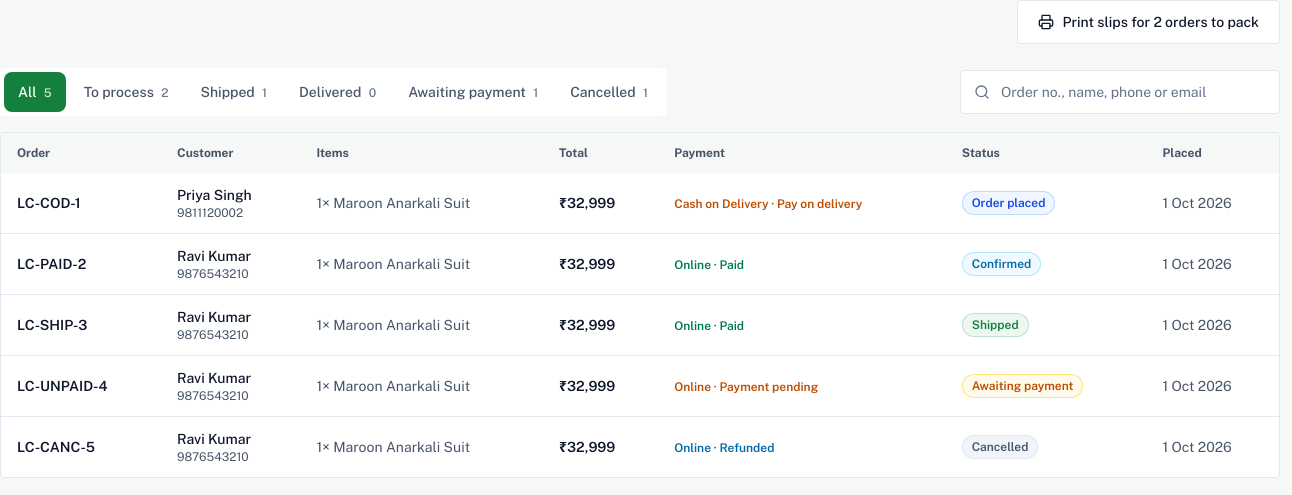
<OrdersAdmin /> › shows tab counts and filters by tab
Expected: the tab "All 5" is shown, top-left (4, 72), bottom-right (66, 112)
Expected: the tab "To process 2" is shown, top-left (70, 72), bottom-right (182, 112)
Click the tab "Shipped 1" at (234, 92), box top-left (186, 72), bottom-right (281, 112)
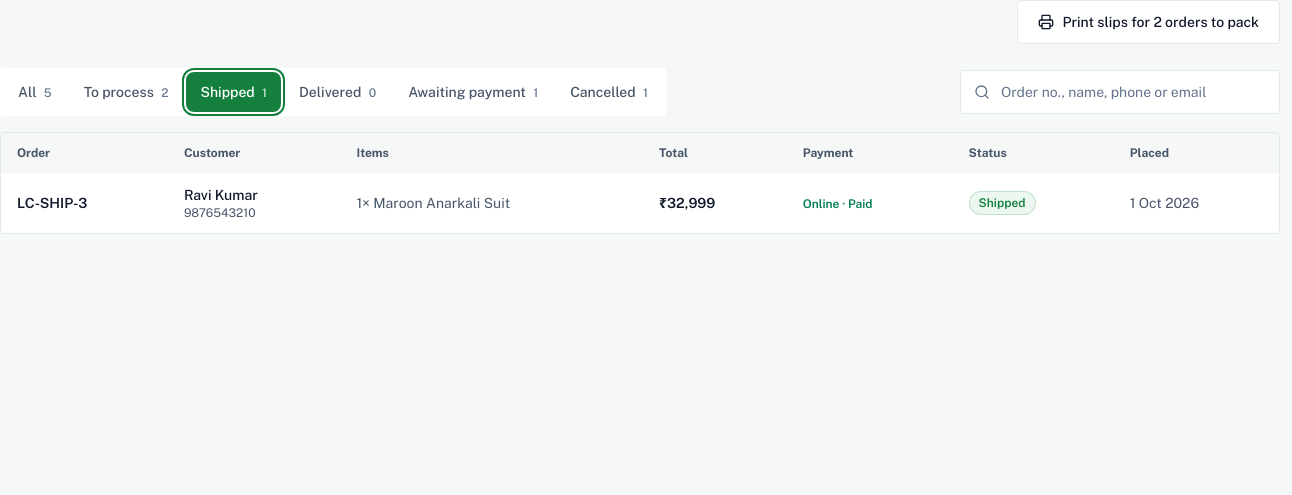
Expected: the text "LC-SHIP-3" is shown, top-left (1, 173), bottom-right (168, 233)
Expected: the text "LC-COD-1" is gone
